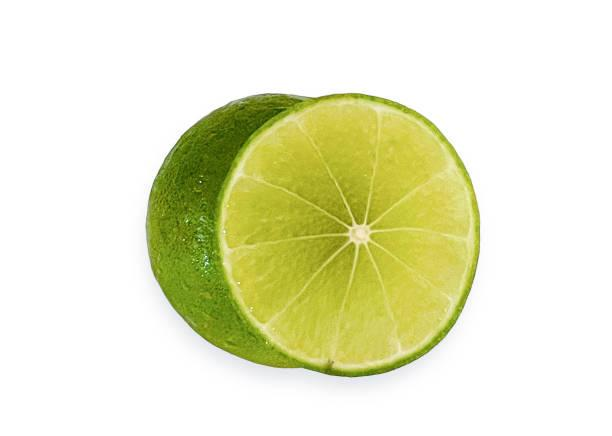lime: (150, 82, 484, 392)
